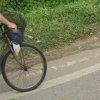bicycles: (0, 12, 47, 92)
